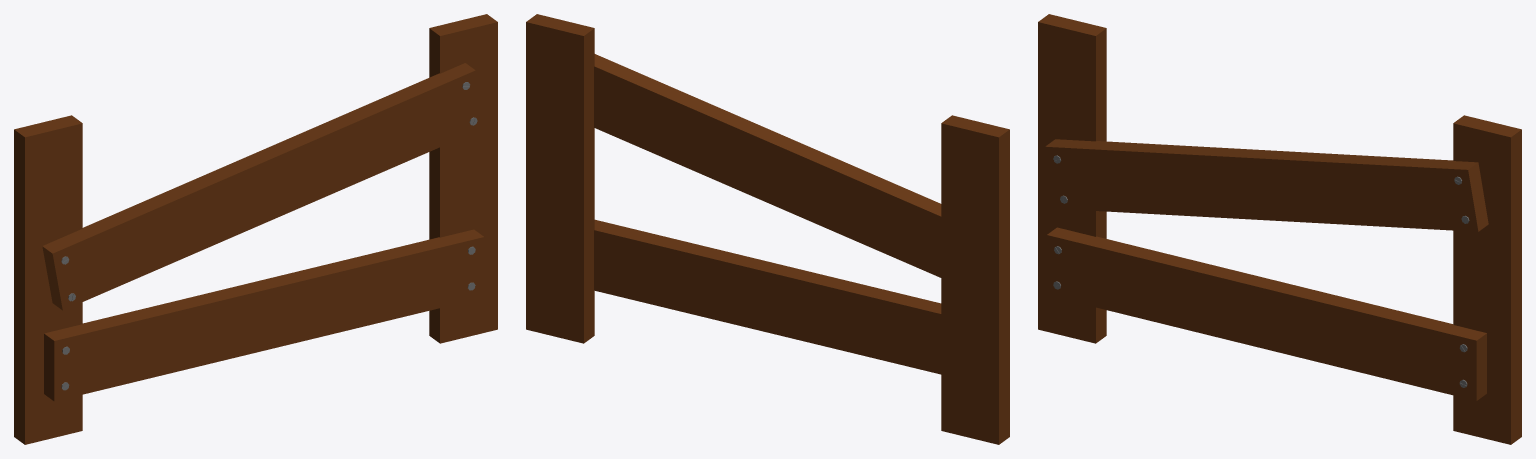
File: fence4.glb
3 views of the same model, side by side, from view 1: azimuth 30°, elevation 25°; view 2: azimuth 150°, elevation 25°; view 3: azimuth 330°, elevation 25° (orthographic).
Visible parts, largest first — view 1: Fence4; view 2: Fence4; view 3: Fence4.
Boxes of the visible parts, left/top/right/bottom form: Fence4: left=14, top=14, right=497, bottom=444; Fence4: left=526, top=14, right=1009, bottom=444; Fence4: left=1038, top=14, right=1521, bottom=444.
Bounding box in the file's own units: 3.51 × 2.18 × 0.2806.
2 materials, 1 textured.
